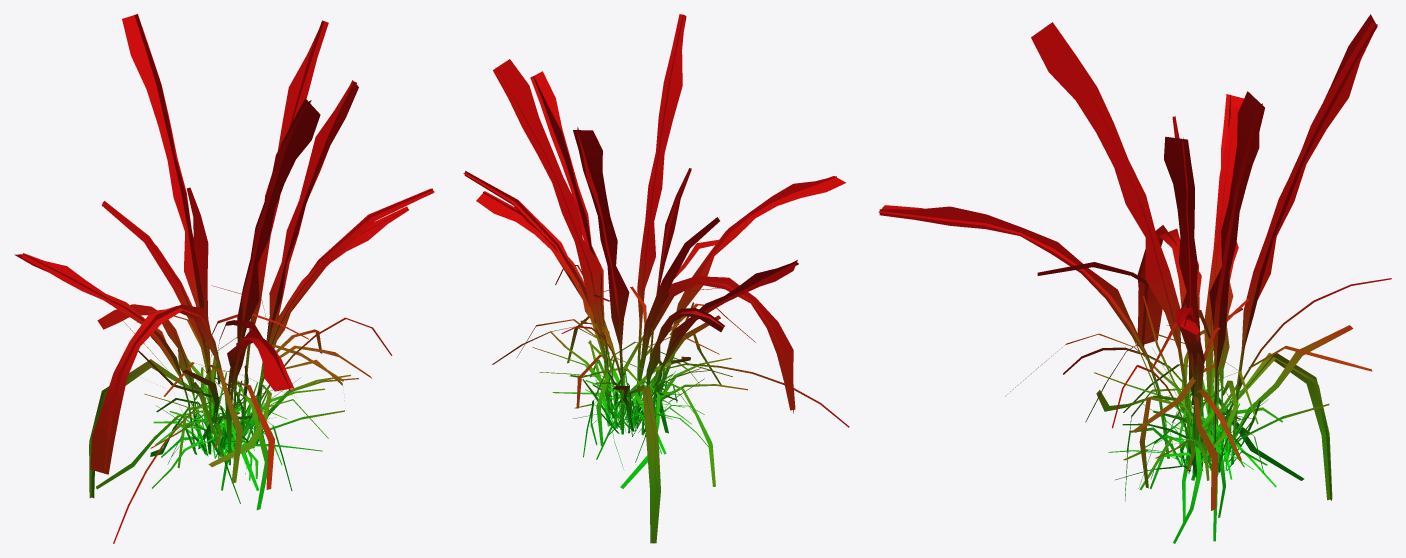
The model's file is Var2_LOD2.fbx.
3 views of the same model, side by side, from view 1: azimuth 30°, elevation 25°; view 2: azimuth 150°, elevation 25°; view 3: azimuth 270°, elevation 25° (orthographic). The views are drawn at different scales.
Visible parts, largest first — view 1: Var2_LOD2; view 2: Var2_LOD2; view 3: Var2_LOD2.
Part boxes in pixels (left/top/right/bottom): Var2_LOD2: left=14, top=14, right=434, bottom=543; Var2_LOD2: left=463, top=14, right=849, bottom=543; Var2_LOD2: left=878, top=14, right=1391, bottom=543.
Bounding box in the file's own units: 55.76 × 63.9 × 56.37.
